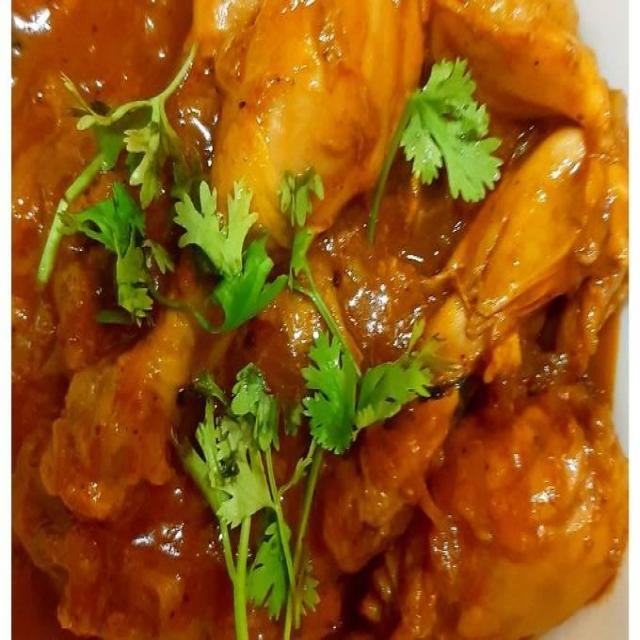chicken: (36, 9, 604, 636)
